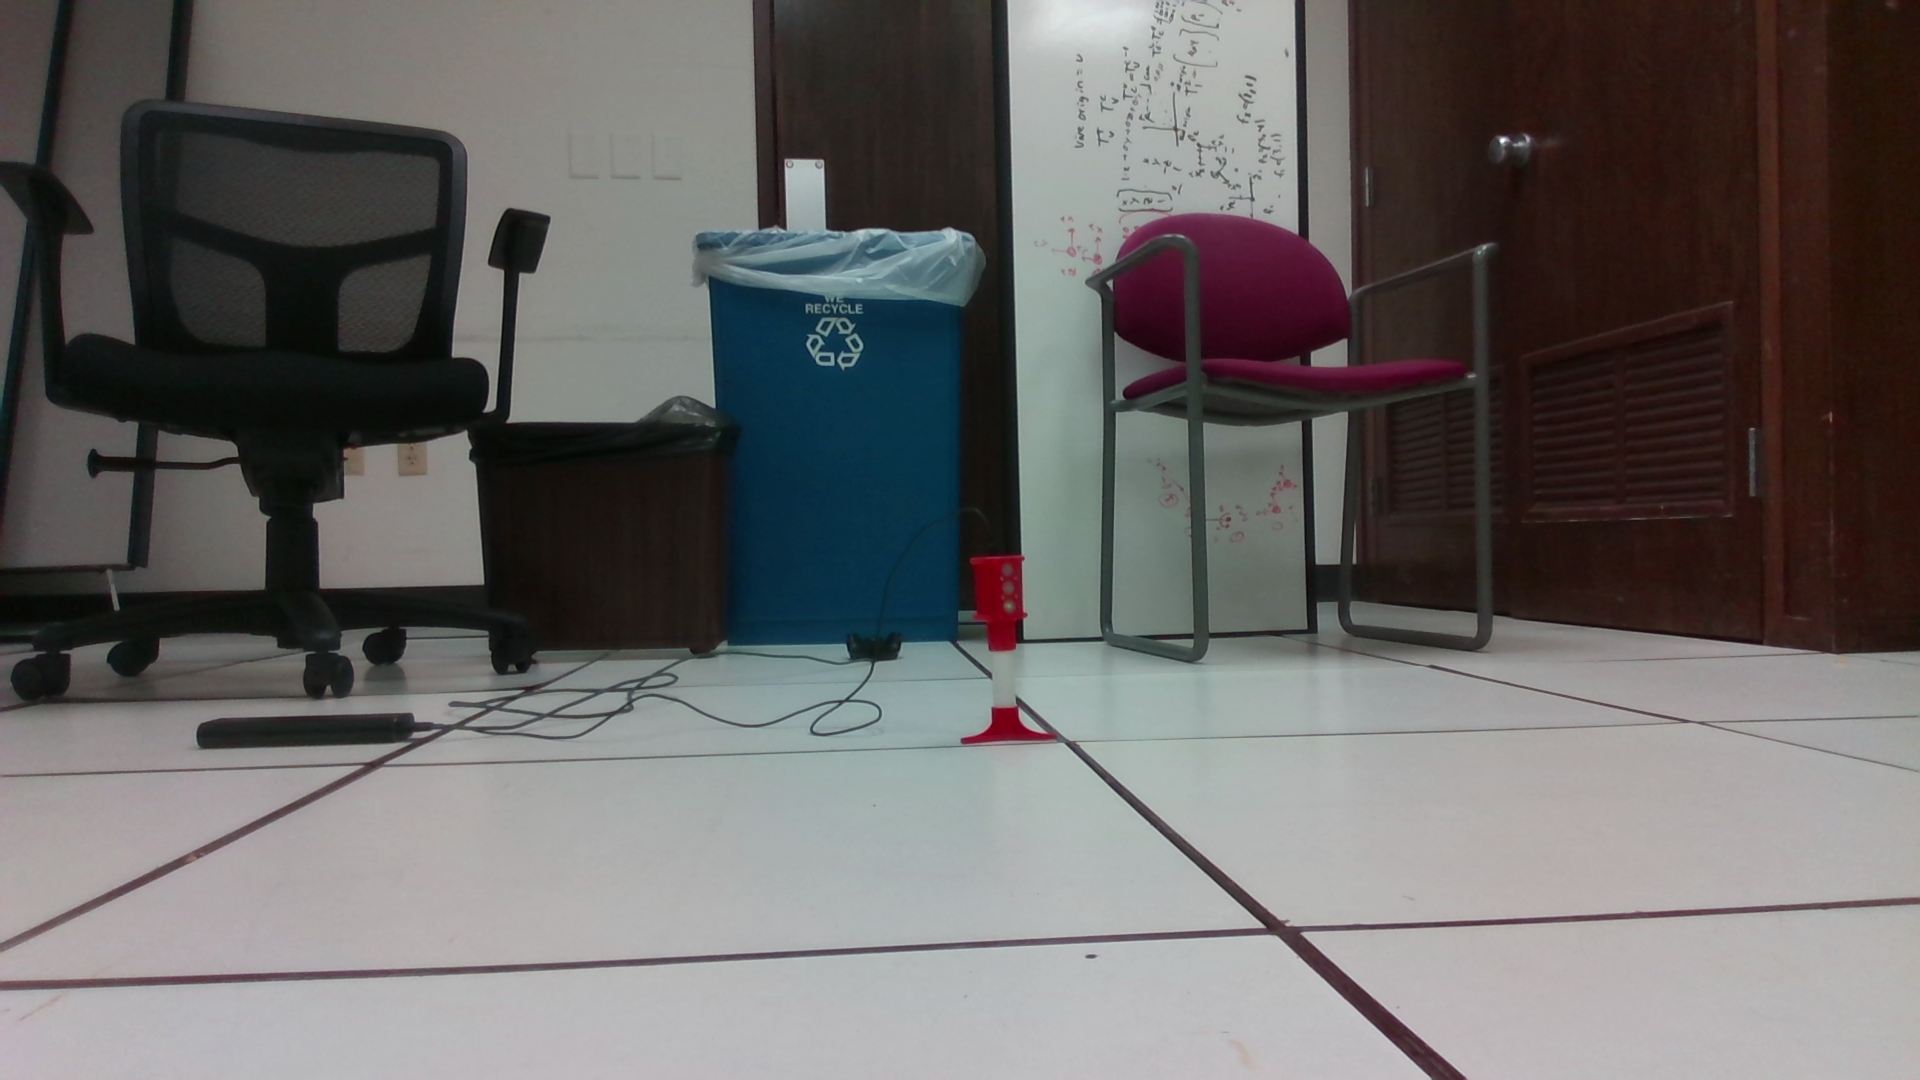stoplight: (971, 554, 1031, 653)
